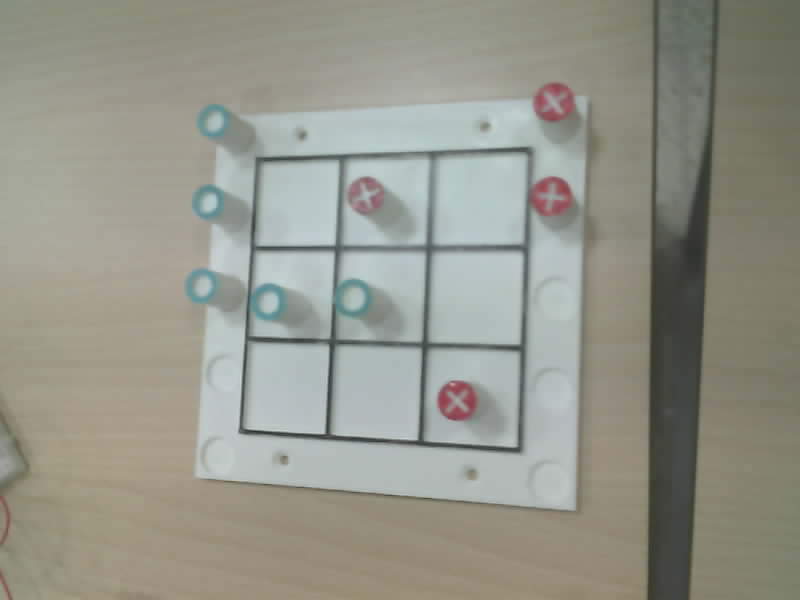blue circle: (334, 278, 371, 316), (250, 283, 285, 320), (196, 104, 229, 138), (185, 268, 217, 303), (192, 184, 223, 219)
board: (186, 86, 587, 508)
cells: (423, 348, 520, 447), (428, 250, 523, 344), (433, 151, 528, 244), (330, 345, 421, 439), (335, 250, 424, 341), (341, 155, 429, 244), (243, 341, 328, 433), (248, 250, 333, 338), (254, 160, 338, 245)
grid: (239, 147, 531, 451)
red cross: (529, 177, 572, 215), (533, 82, 574, 121), (437, 380, 476, 420), (347, 177, 383, 214)
